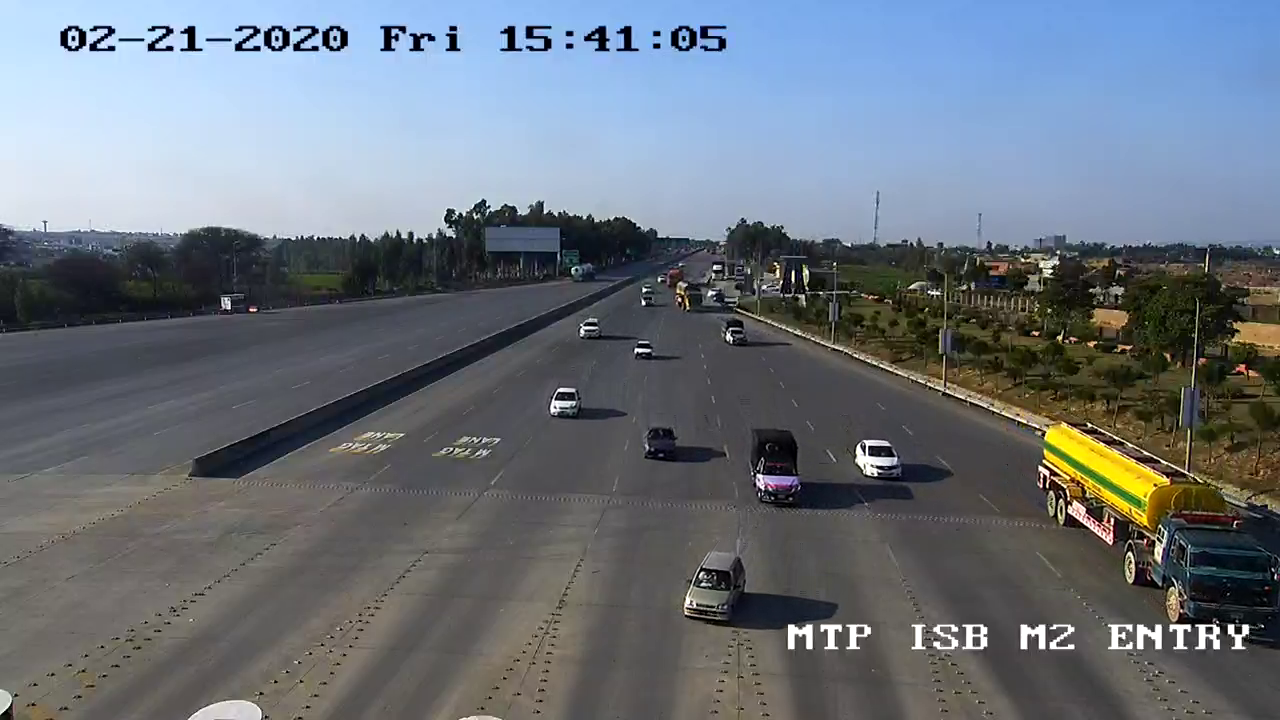f1: (740, 418, 814, 511), (679, 546, 752, 632), (849, 431, 912, 491), (632, 409, 685, 472), (540, 372, 589, 431)
f6: (1032, 401, 1280, 626)
